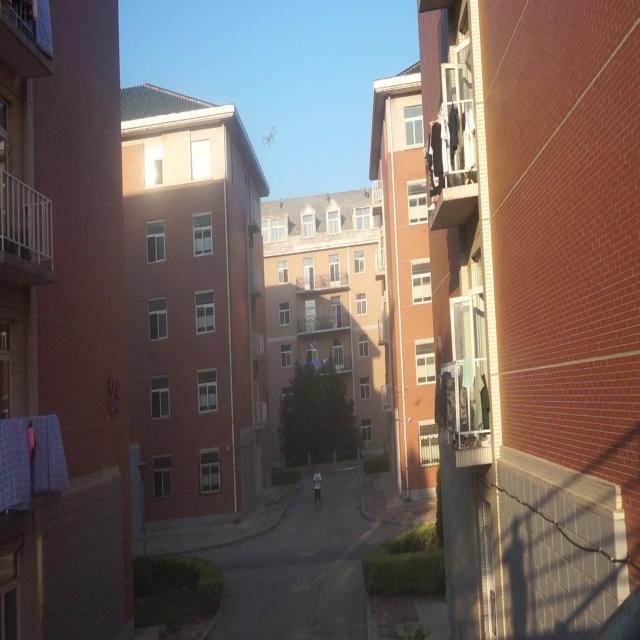UAV: (261, 126, 277, 146)
